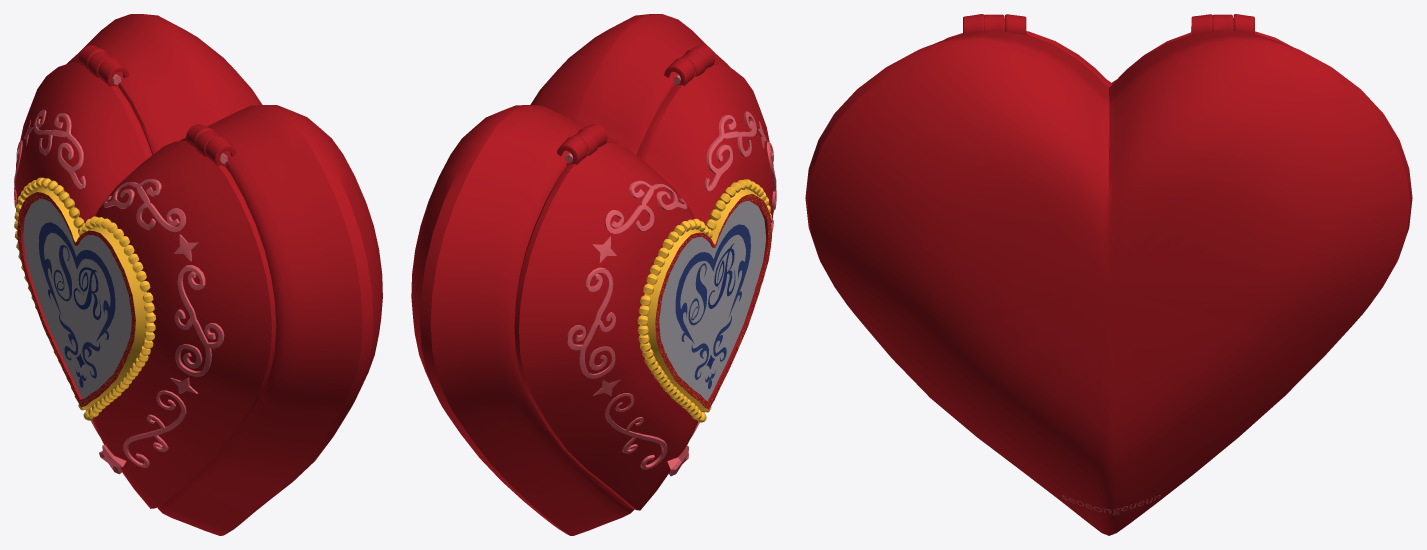
File: heart.glb
3 views of the same model, side by side, from view 1: azimuth 30°, elevation 25°; view 2: azimuth 150°, elevation 25°; view 3: azimuth 270°, elevation 25° (orthographic). The views are drawn at different scales.
Parts seen in each view (by area): view 1: lid, body, glass, decor_glass; view 2: lid, body, glass, decor_glass; view 3: body, lid.
Part boxes in pixels (bbox=[...]): lid: bbox=[14, 51, 276, 508]; body: bbox=[67, 14, 382, 535]; glass: bbox=[23, 198, 131, 398]; decor_glass: bbox=[38, 222, 115, 387]; lid: bbox=[514, 51, 776, 510]; body: bbox=[411, 14, 730, 535]; glass: bbox=[659, 200, 765, 400]; decor_glass: bbox=[675, 224, 750, 389]; body: bbox=[805, 14, 1412, 535]; lid: bbox=[944, 14, 1292, 87].
Bounding box in the file's own units: 1.66 × 3.31 × 3.66.
